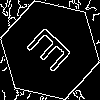E: (25, 25, 81, 81)
